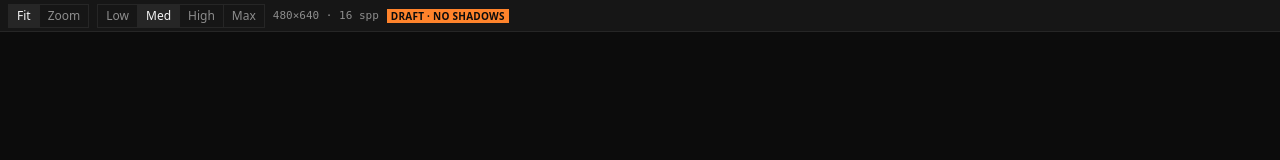
Test: PreviewCanvas — chế độ Zoom › phím + và − đổi mức phóng, phím 0 về 100%
Click the radio button labelled "Zoom": (64, 16) [40, 4, 88, 26]
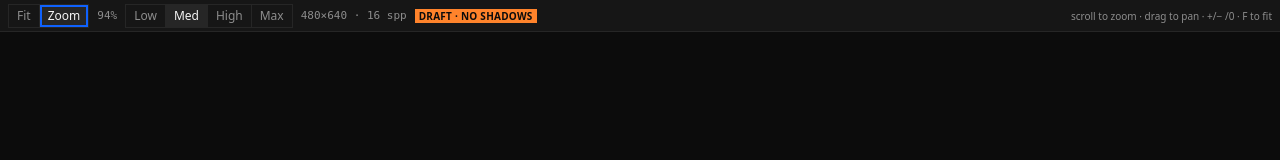
Press +
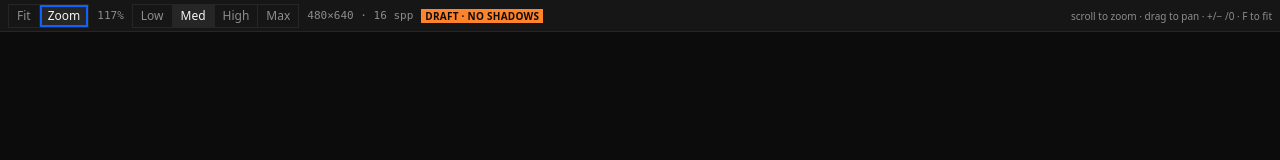
Now the text with test id "zoom-level" reads "117%", box [97, 8, 124, 24]
Press 0
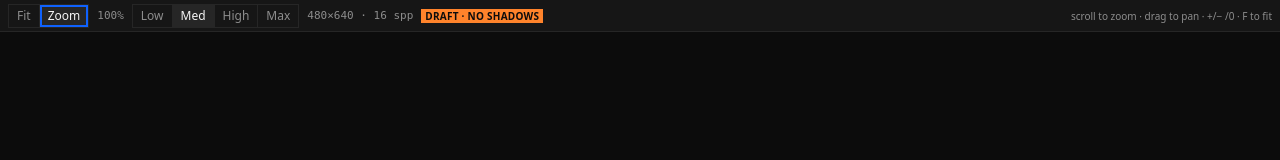
Now the text with test id "zoom-level" reads "100%", box [97, 8, 124, 24]
Press -
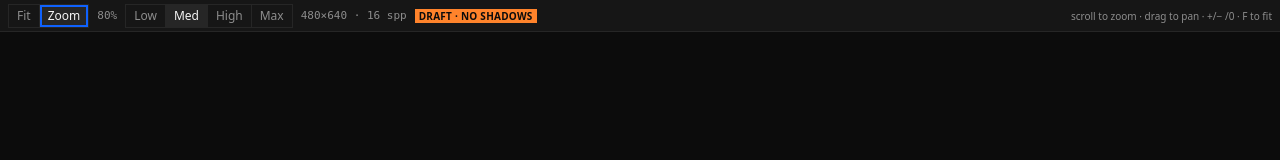
Now the text with test id "zoom-level" reads "80%", box [97, 8, 117, 24]
